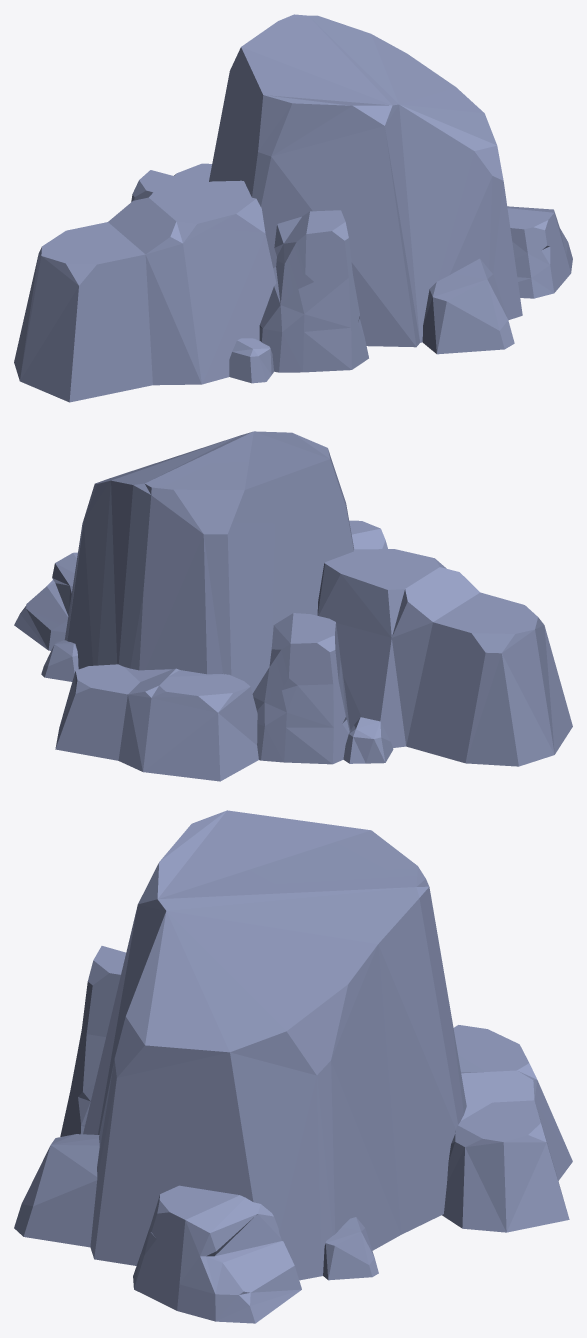
The model's file is Rock_14.fbx.
3 views of the same model, one above another, from view 1: azimuth 30°, elevation 25°; view 2: azimuth 150°, elevation 25°; view 3: azimuth 270°, elevation 25° (orthographic). The views are drawn at different scales.
Parts seen in each view (by area): view 1: Rock_14; view 2: Rock_14; view 3: Rock_14.
Part boxes in pixels (box(x1,y1,x2,y2)): Rock_14: box(14, 14, 572, 402); Rock_14: box(14, 431, 572, 781); Rock_14: box(14, 810, 572, 1323).
Size of the model in its own units: 9.4 by 3.9 by 6.29.
